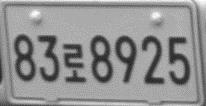2: (140, 34, 165, 84)
3: (37, 34, 59, 81)
5: (168, 35, 190, 85)
8: (89, 34, 113, 82), (12, 33, 36, 80)
9: (113, 34, 137, 83)
로: (62, 43, 86, 83)
